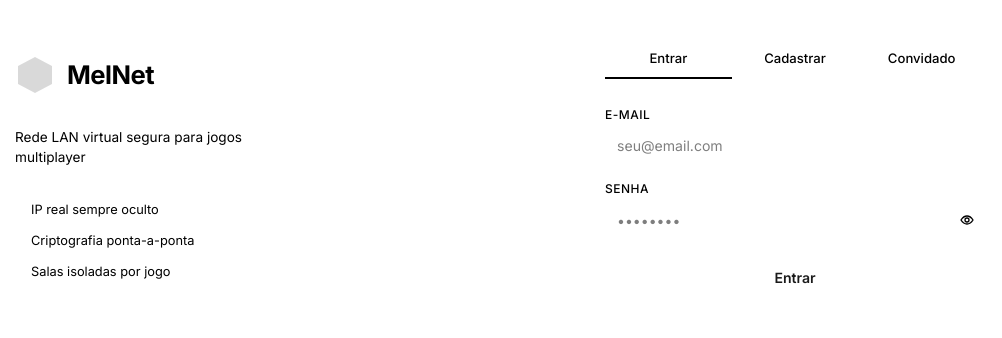
it: AuthPage component › clears errors when switching modes
Note: Trigger login errors by submitting the form
Submit the form, box [605,106,985,296]
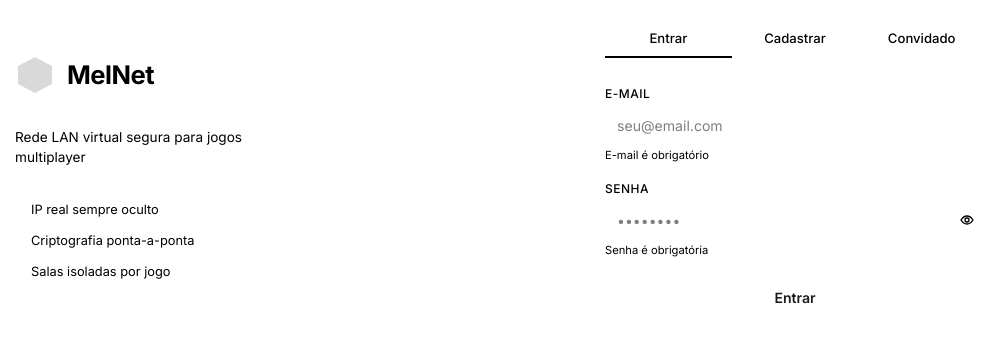
expect the text "E-mail é obrigatório" is shown: met, box [605,148,709,162]
Note: Switch to register — errors should be gone
Click the button "Cadastrar" at [795, 39], box [732,19,858,58]
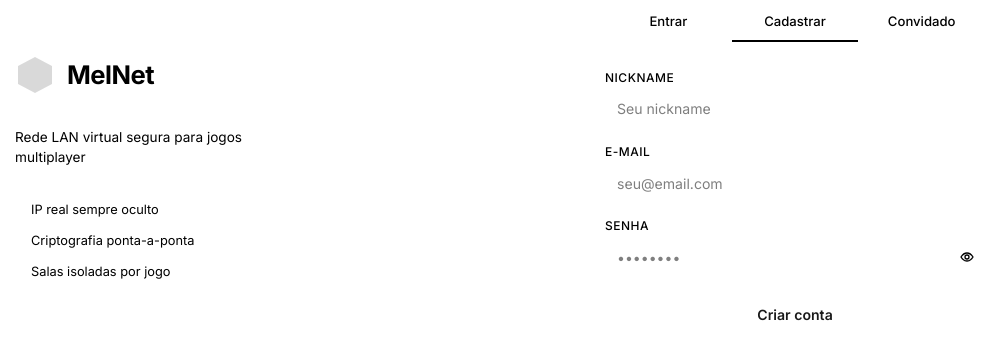
expect the text "E-mail é obrigatório" is gone: met
